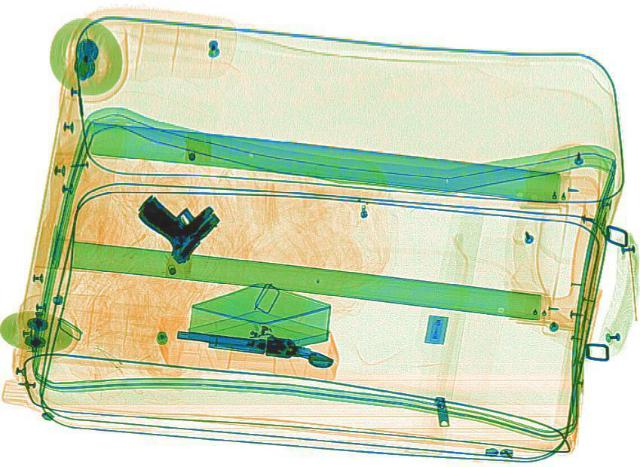Gun: (119, 181, 237, 262), (172, 329, 338, 366)
